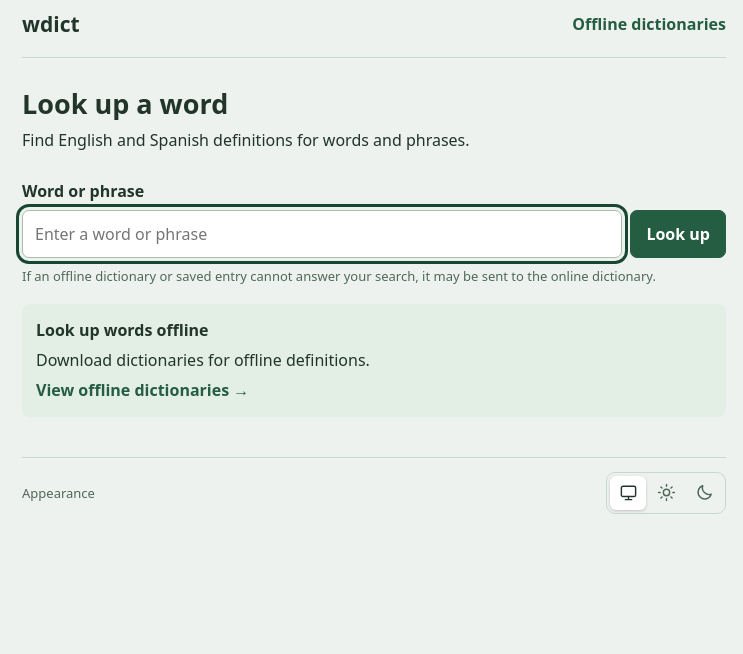
Test: lookup and offline dictionary UI › given_retry_pending_when_other_language_returns_then_both_remain_usable
The image size is (743, 654).
Type "casa" into the field labelled "Word or phrase".
click(322, 234); type("casa")  # box [22,210,622,258]
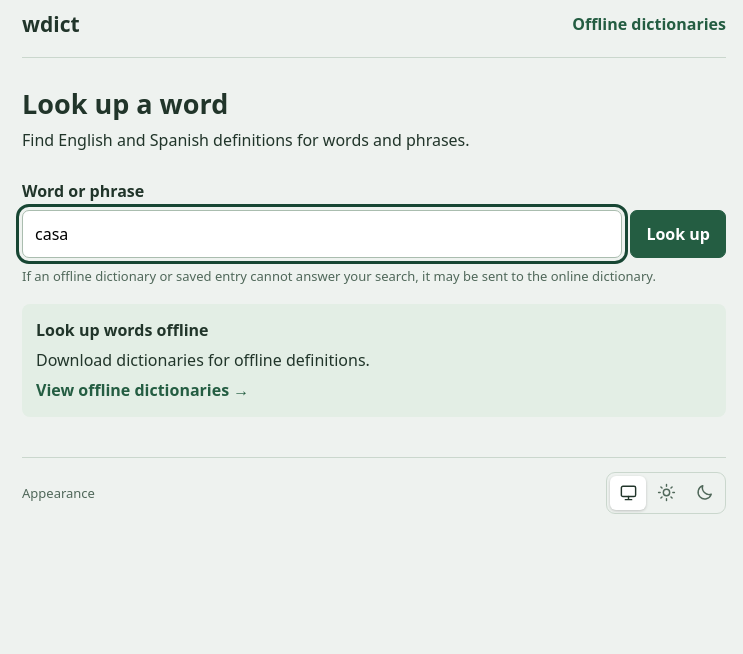
Click the button "Look up".
click(678, 234)  # box [630,210,726,258]
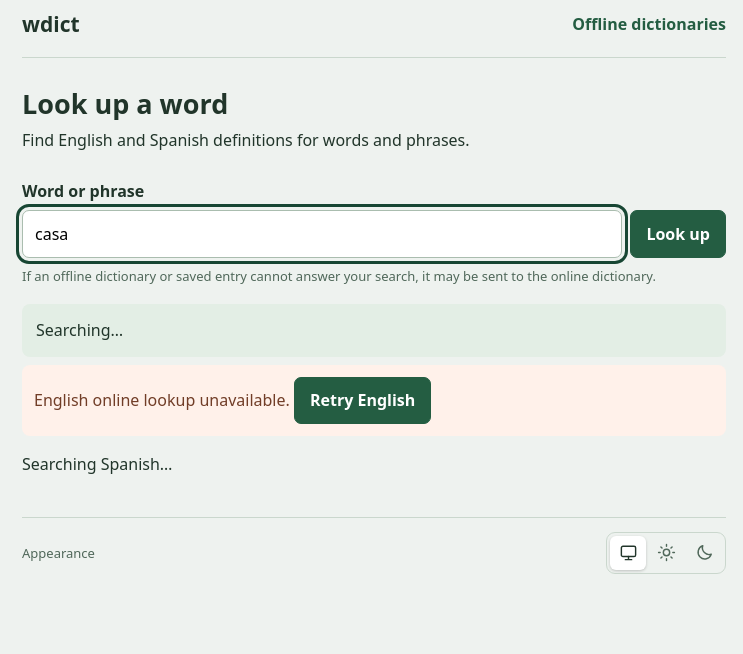
Click the button "Retry English".
click(363, 401)  # box [294,377,431,424]
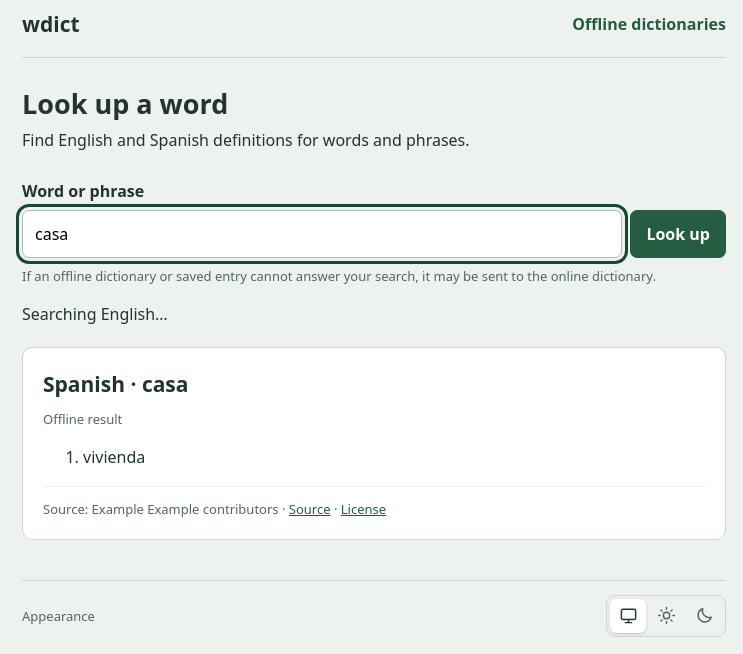
Check: the list item "vivienda" is shown, box [83,446,145,468]
Check: the text "Searching English…" is shown, box [22,304,168,326]
